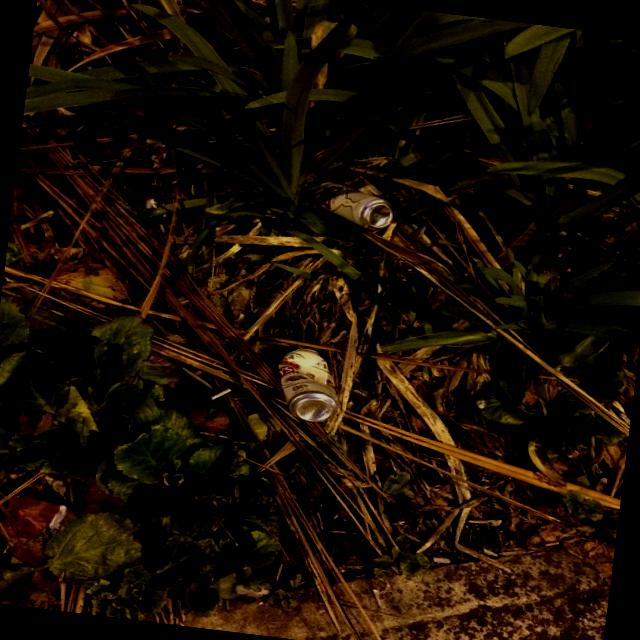Trash: (274, 336, 359, 438), (322, 174, 401, 236)
